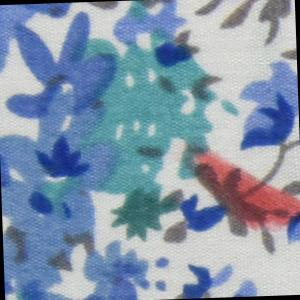Stain: (181, 134, 300, 243)
